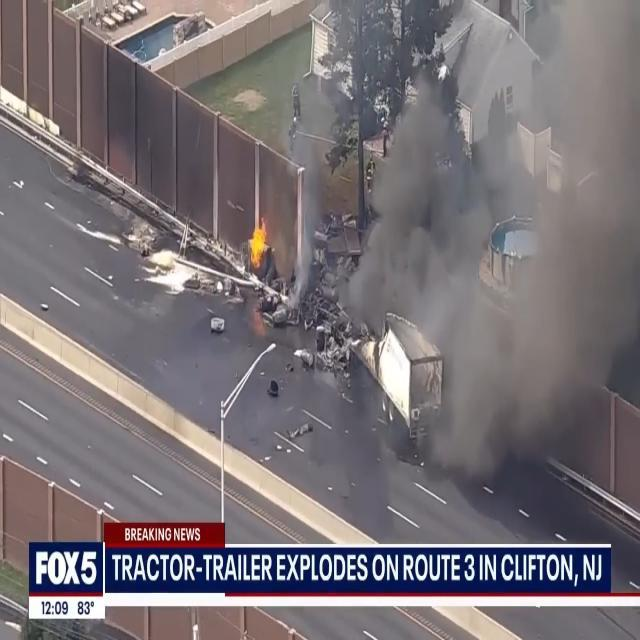fire: (243, 216, 270, 276)
